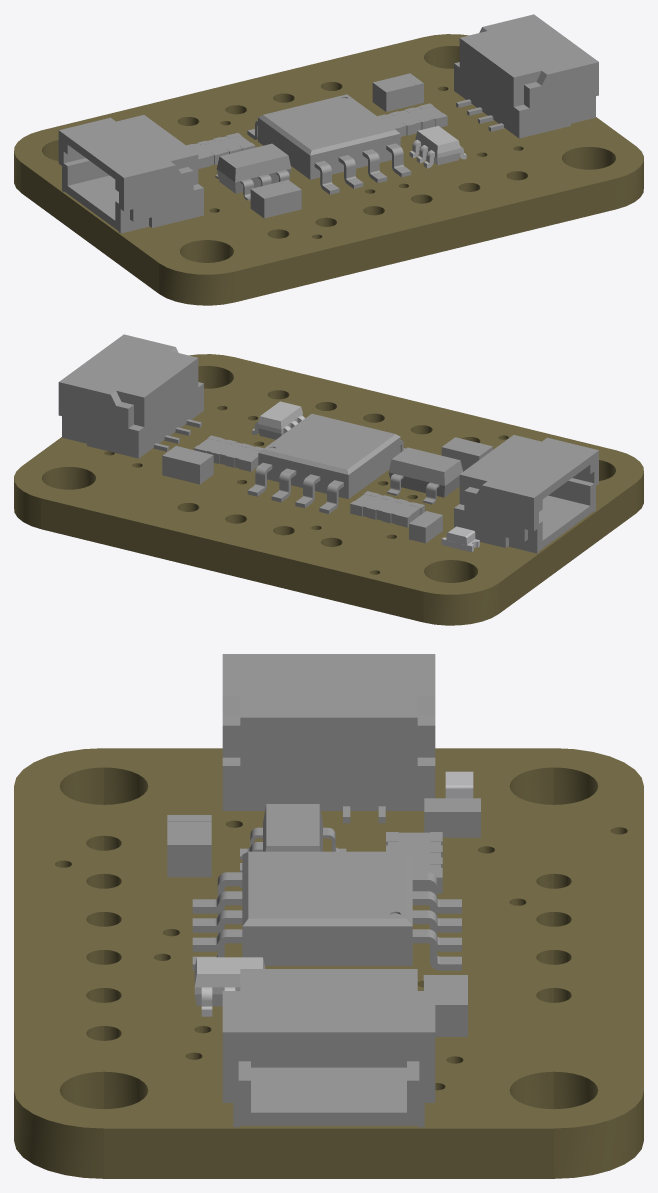
Rendered from ada-5146.glb.
3 renders of one model, top to bottom at view 1: azimuth 30°, elevation 25°; view 2: azimuth 150°, elevation 25°; view 3: azimuth 270°, elevation 25°, orthographic. The views are drawn at different scales.
Visible parts, largest first — view 1: 0.16666666666666666_0.16666666666666666_0.08333333333333333_, 0.3333333333333333_0.3333333333333333_0.3333333333333333_0, 0.5_0.5_0.5_0.85; view 2: 0.16666666666666666_0.16666666666666666_0.08333333333333333_, 0.3333333333333333_0.3333333333333333_0.3333333333333333_0, 0.5_0.5_0.5_0.85, 0.5833333333333334_0.5833333333333334_0.5833333333333334_0.8; view 3: 0.16666666666666666_0.16666666666666666_0.08333333333333333_, 0.3333333333333333_0.3333333333333333_0.3333333333333333_0, 0.5_0.5_0.5_0.85, 0.5833333333333334_0.5833333333333334_0.5833333333333334_0.8.
Part boxes in pixels (x1=…): 0.16666666666666666_0.16666666666666666_0.08333333333333333_: x1=14, y1=34, x2=643, y2=305; 0.3333333333333333_0.3333333333333333_0.3333333333333333_0: x1=58, y1=14, x2=598, y2=233; 0.5_0.5_0.5_0.85: x1=409, y1=126, x2=466, y2=168; 0.16666666666666666_0.16666666666666666_0.08333333333333333_: x1=14, y1=354, x2=643, y2=625; 0.3333333333333333_0.3333333333333333_0.3333333333333333_0: x1=58, y1=334, x2=598, y2=553; 0.5_0.5_0.5_0.85: x1=252, y1=401, x2=304, y2=439; 0.5833333333333334_0.5833333333333334_0.5833333333333334_0.8: x1=441, y1=526, x2=479, y2=552; 0.16666666666666666_0.16666666666666666_0.08333333333333333_: x1=14, y1=748, x2=643, y2=1178; 0.3333333333333333_0.3333333333333333_0.3333333333333333_0: x1=167, y1=654, x2=480, y2=1127; 0.5_0.5_0.5_0.85: x1=194, y1=957, x2=265, y2=1016; 0.5833333333333334_0.5833333333333334_0.5833333333333334_0.8: x1=445, y1=771, x2=473, y2=798.
Bounding box in the file's own units: 2.54 × 0.4529 × 1.78.
